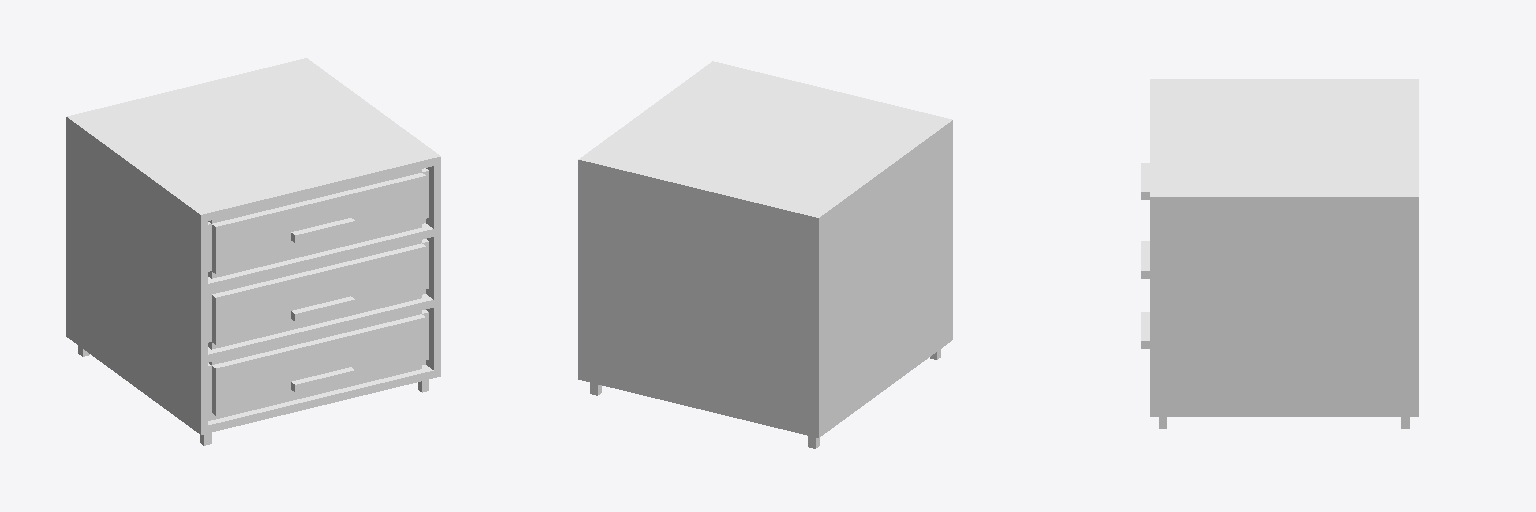
Rendered from drawer_V1.obj.
3 views of the same model, side by side, from view 1: azimuth 30°, elevation 25°; view 2: azimuth 150°, elevation 25°; view 3: azimuth 270°, elevation 25° (orthographic).
Visible parts, largest first — view 1: drawer_V1; view 2: drawer_V1; view 3: drawer_V1.
Boxes of the visible parts, x1,y1,x2,y2 form: drawer_V1: [66, 58, 440, 445]; drawer_V1: [578, 61, 952, 448]; drawer_V1: [1141, 79, 1418, 428].
Bounding box in the file's own units: 32 × 30 × 32.